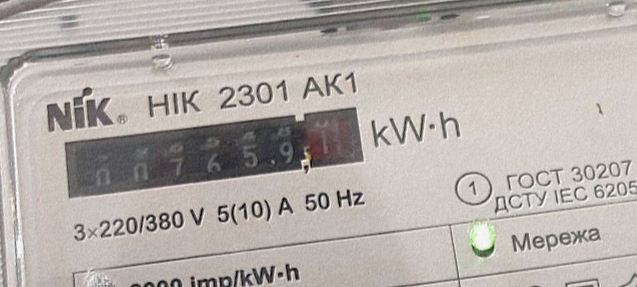0: (91, 162, 113, 190), (129, 157, 151, 185)
1: (315, 124, 333, 158)
5: (237, 140, 262, 169)
6: (201, 148, 223, 174)
7: (165, 153, 188, 181)
9: (274, 137, 296, 166)
screen: (49, 86, 377, 220)
